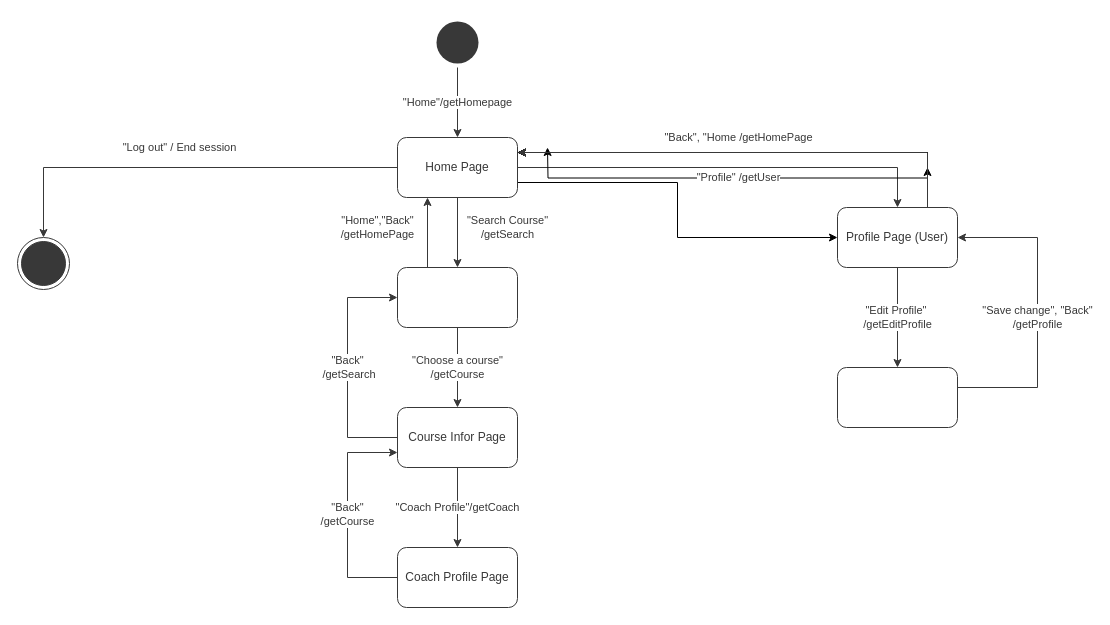
Some shapes in this 1110 by 625 pixel diagram are drawn without their labels. The shapes that lost their labels are listed below. From the top down, each one's box as (x1, y1, x2, y2) in pixels, then its label:
(396, 266, 518, 328): Search Course Page
(836, 366, 958, 428): Edit Profile Page
